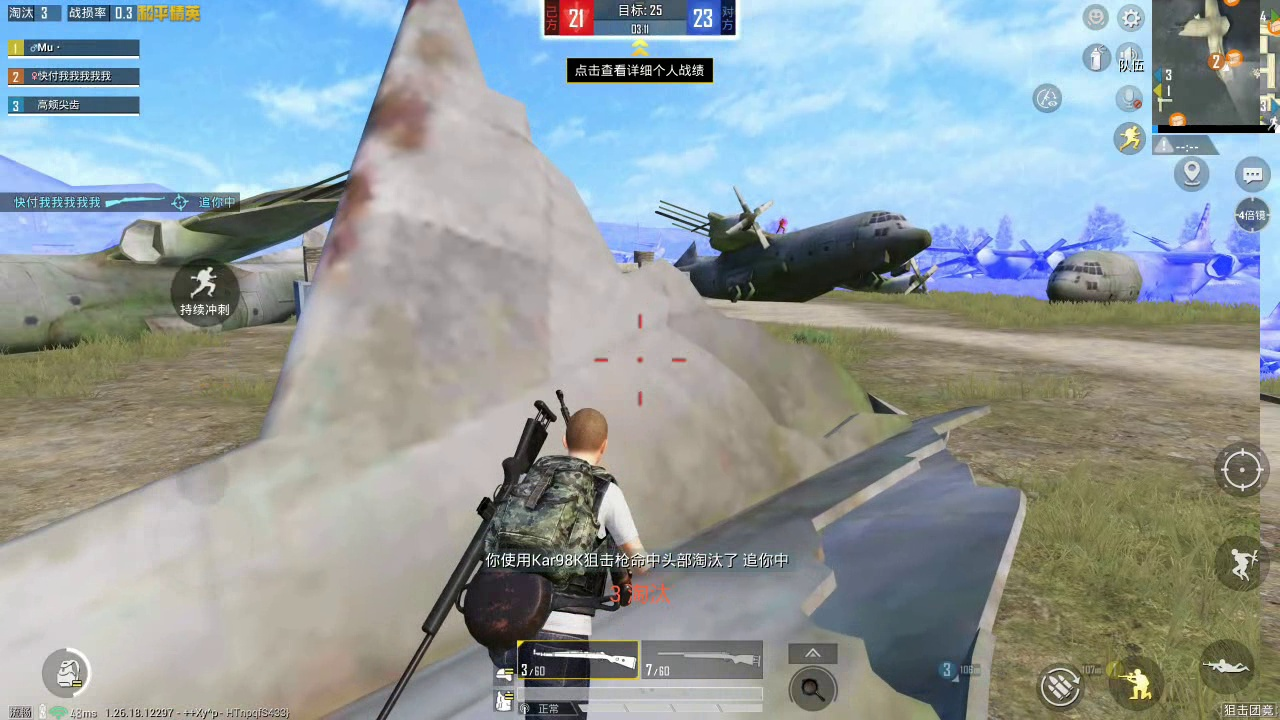enemy: (774, 216, 786, 234)
